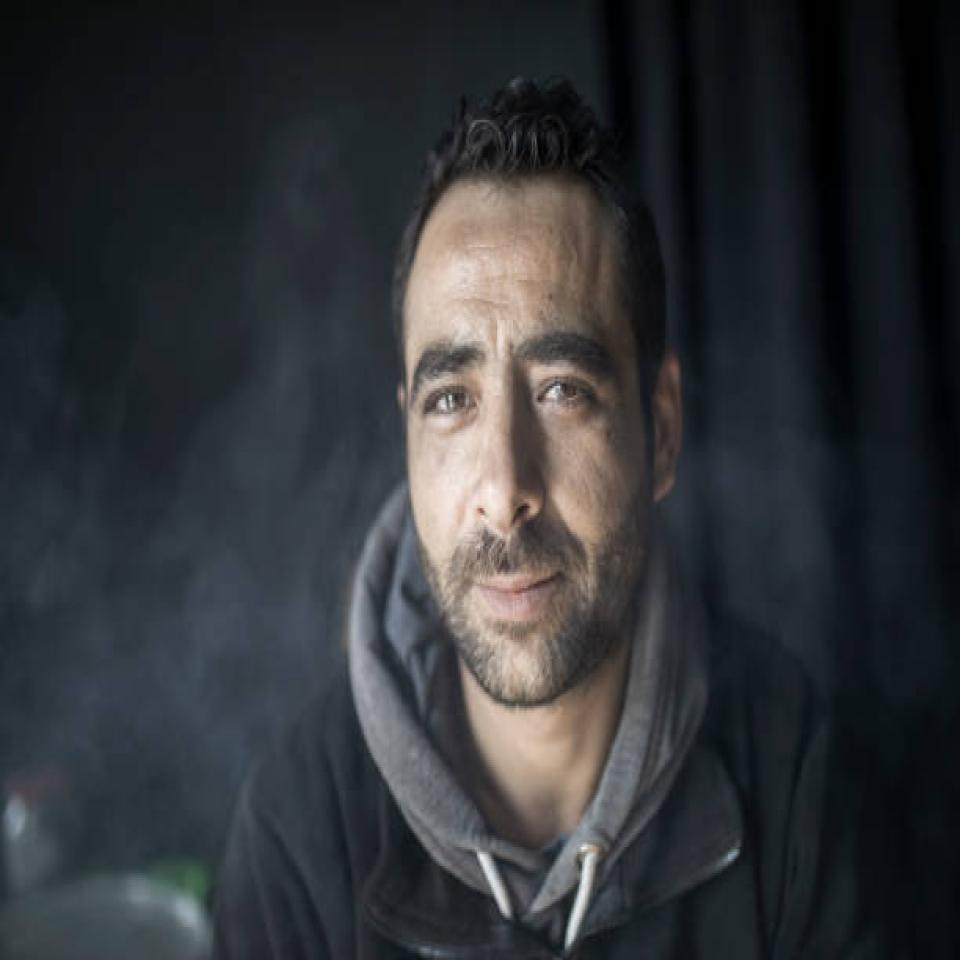Sadness: (406, 220, 653, 706)
